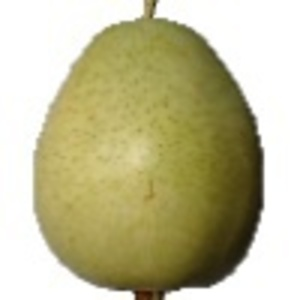pera: (32, 1, 264, 300)
